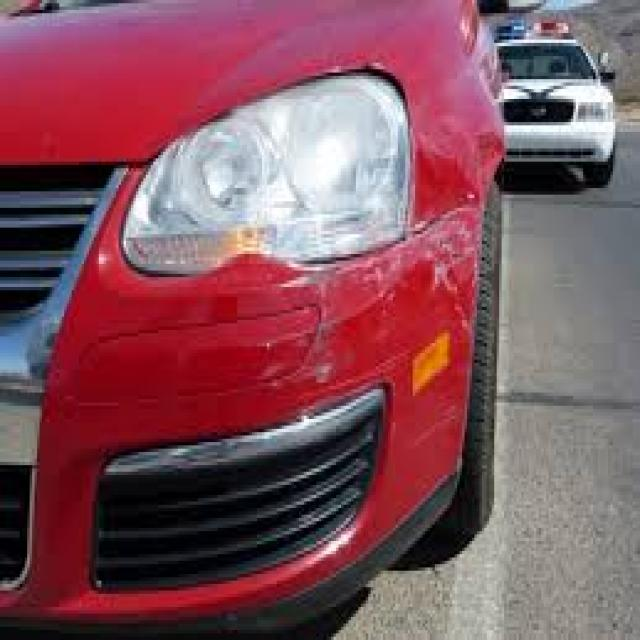minor: (233, 39, 521, 378)
